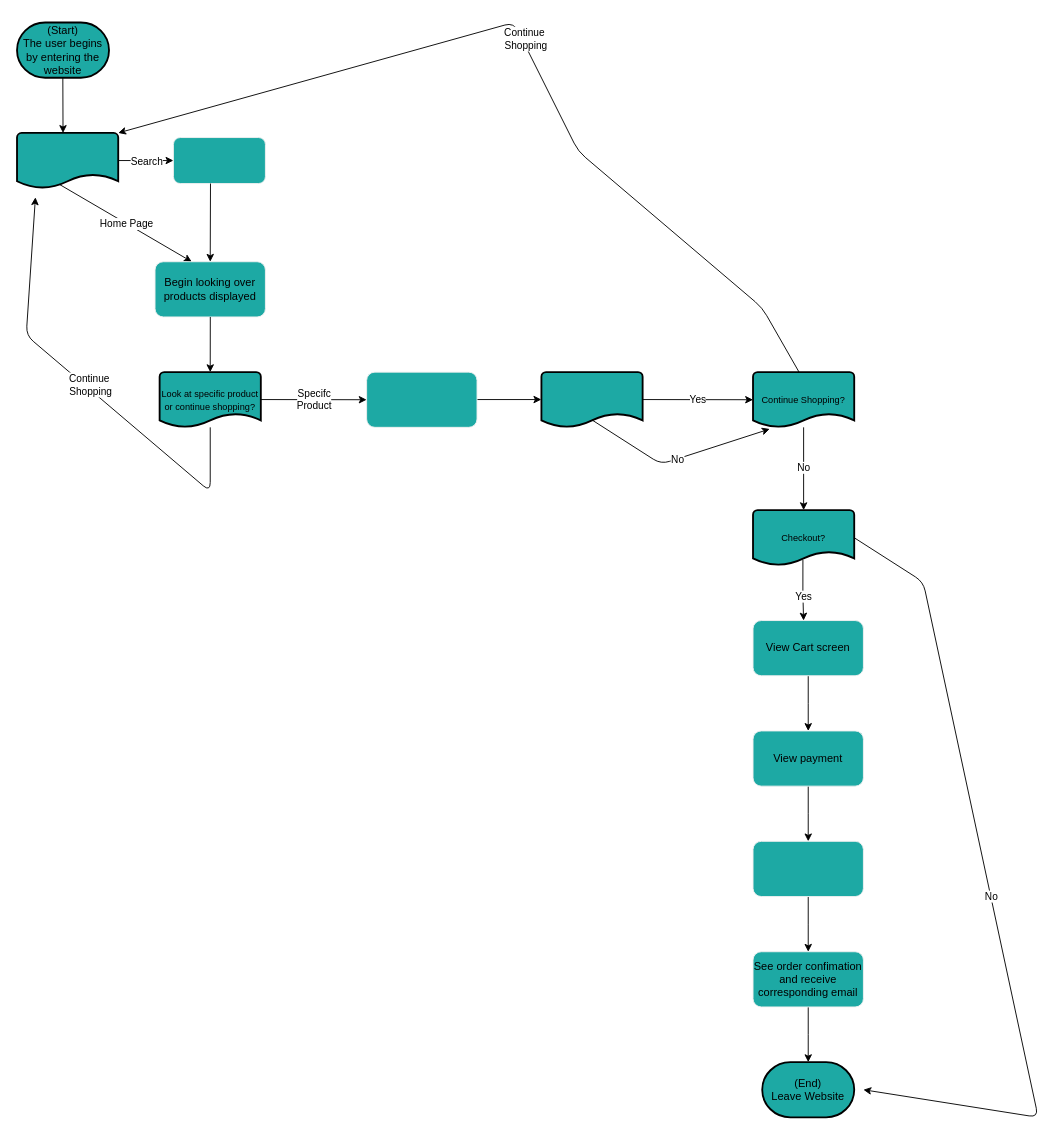
This 1062x1141 diagram has some shape labels left out. The centre of each missing label's shape, as x and y in pixels:
"Add item to cart?" goes at (591,399).
"Input payment payment information" goes at (807,868).
"Product webpage will open up" goes at (421,399).
"Provide input of product name" goes at (218,160).
"Search for product or explore homepage?" goes at (67,160).
